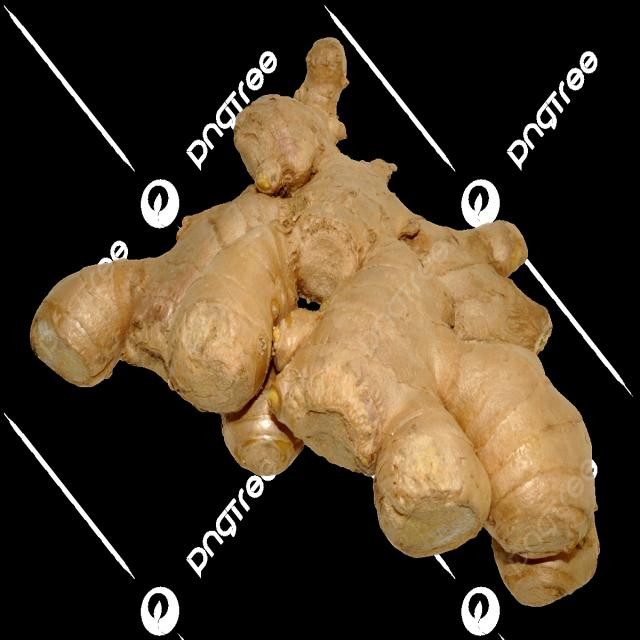ginger-root: (24, 25, 604, 612)
